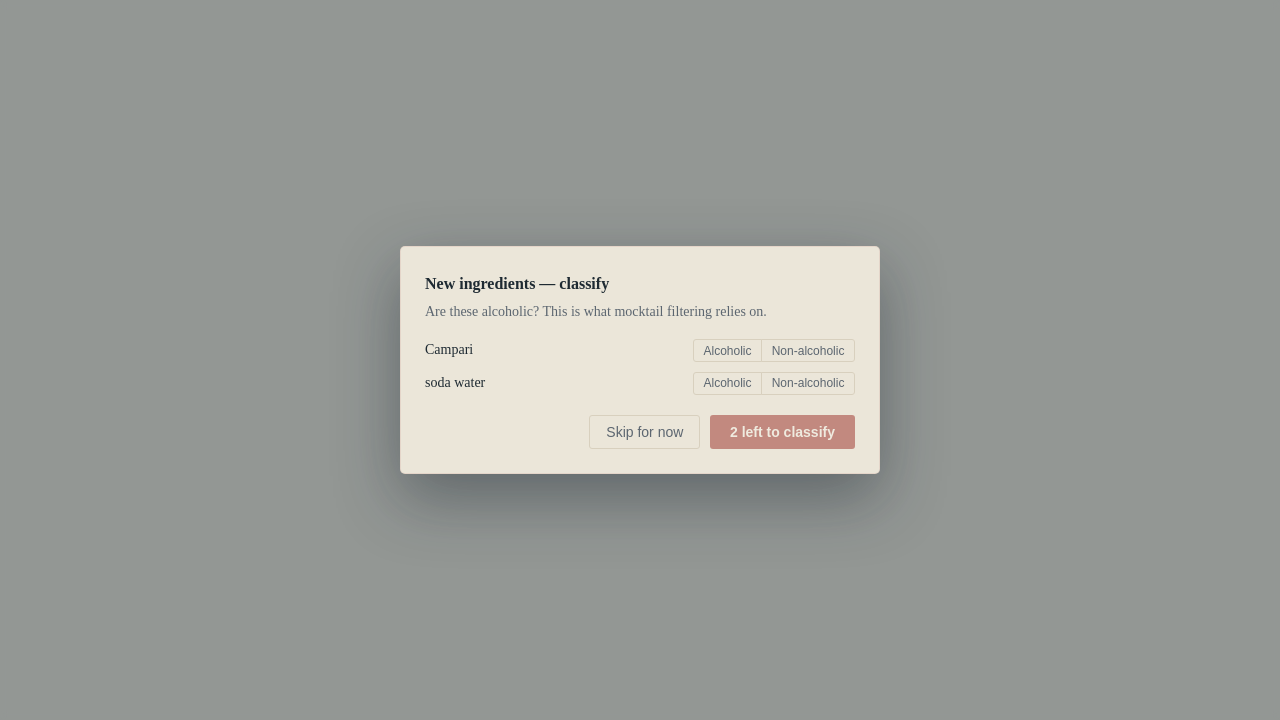
Test: ClassifyIngredientsModal › blocksConfirm_untilEverythingIsClassified
Expected: the button "2 left to classify" is disabled, 710,415 -> 855,449
Click the button "Alcoholic" in the row of "Campari" at (728, 351), box 693,339 -> 762,362
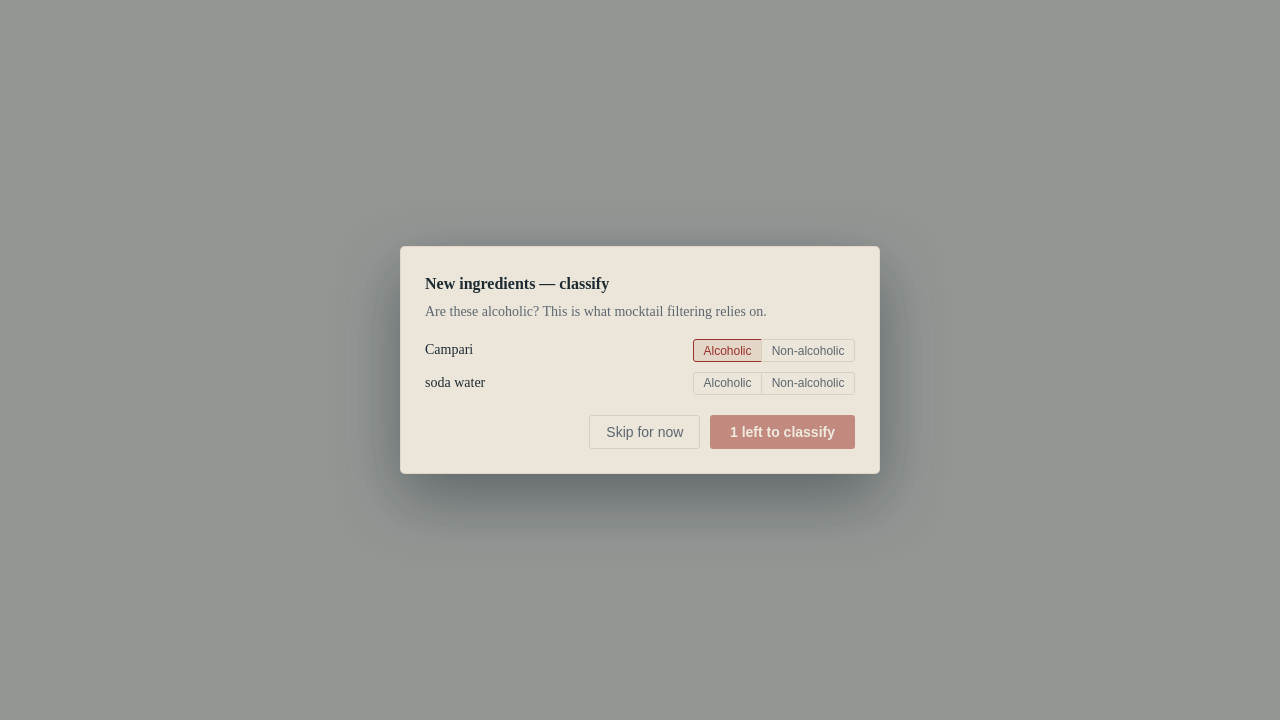
Expected: the button "1 left to classify" is disabled, 710,415 -> 855,449
Click the button "Non-alcoholic" in the row of "soda water" at (808, 383), box 761,372 -> 855,395
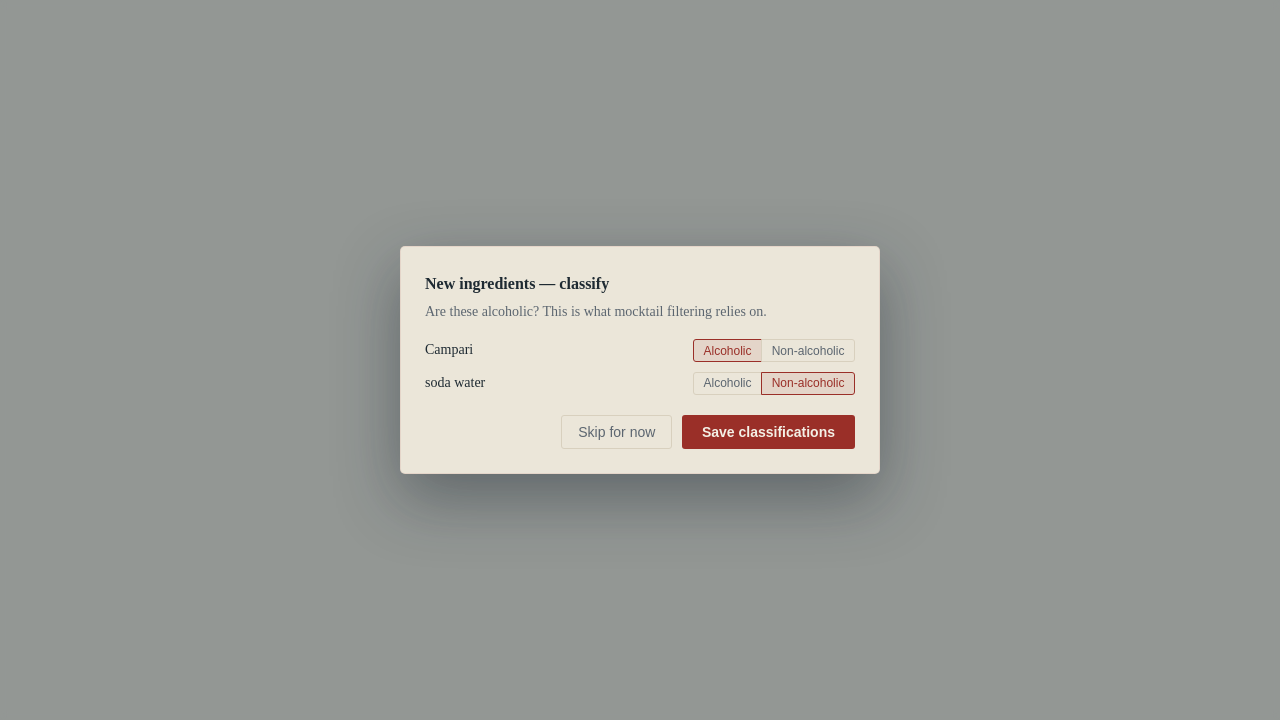
Now the button "Save classifications" is enabled, box 682,415 -> 855,449
